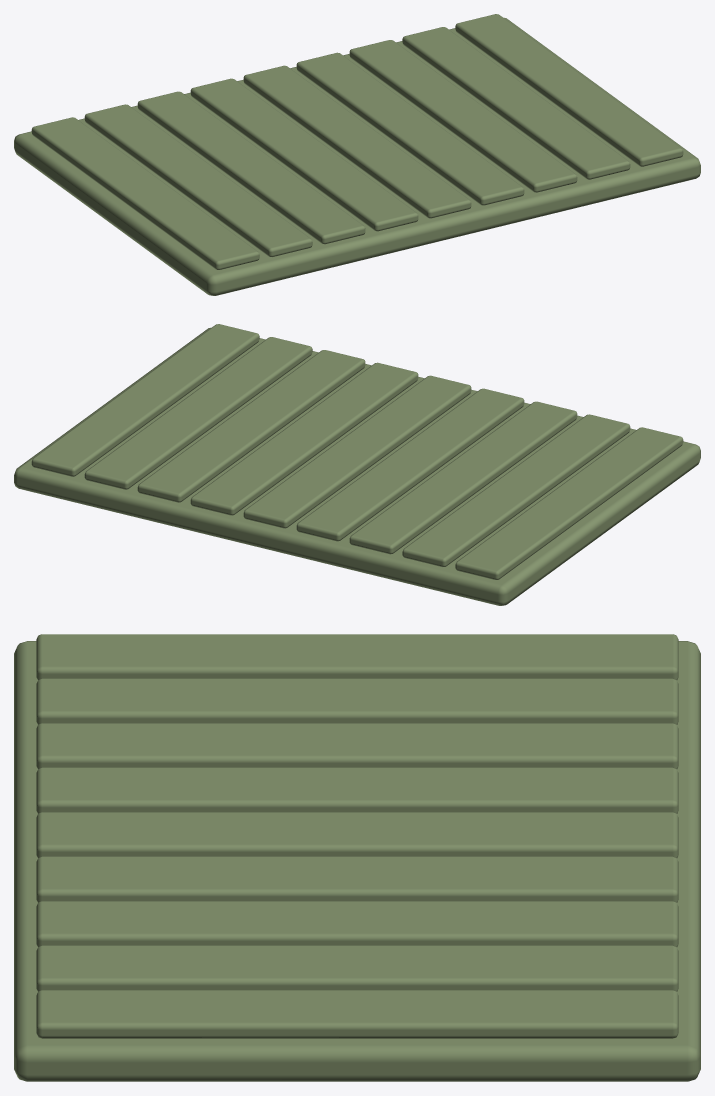
File: bathroom_ref_shower_mat.glb
3 renders of one model, top to bottom at view 1: azimuth 30°, elevation 25°; view 2: azimuth 150°, elevation 25°; view 3: azimuth 270°, elevation 25°, orthographic. The views are drawn at different scales.
Size of the model in its own units: 1.1 by 0.0635 by 0.77.
